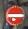No entry: (6, 6, 23, 24)
